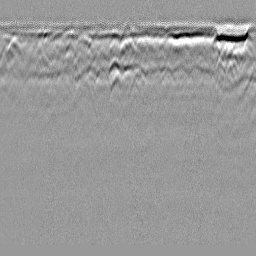cavity: (123, 33, 135, 54)
